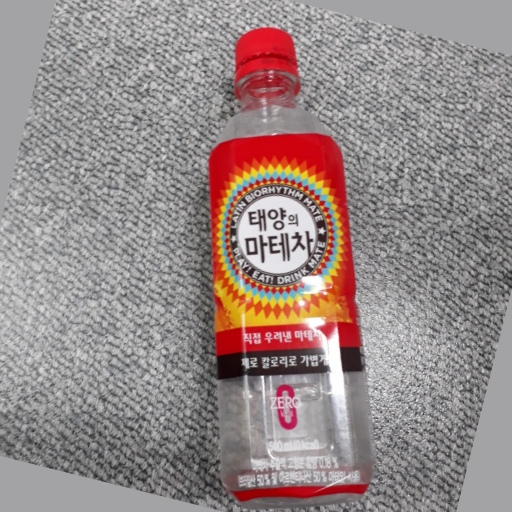Plastic_0: (203, 25, 377, 504)
